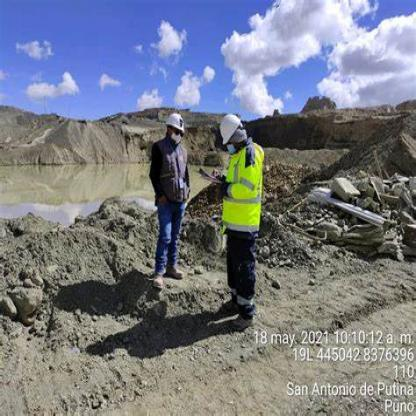person: (209, 98, 273, 324), (146, 94, 186, 288)
